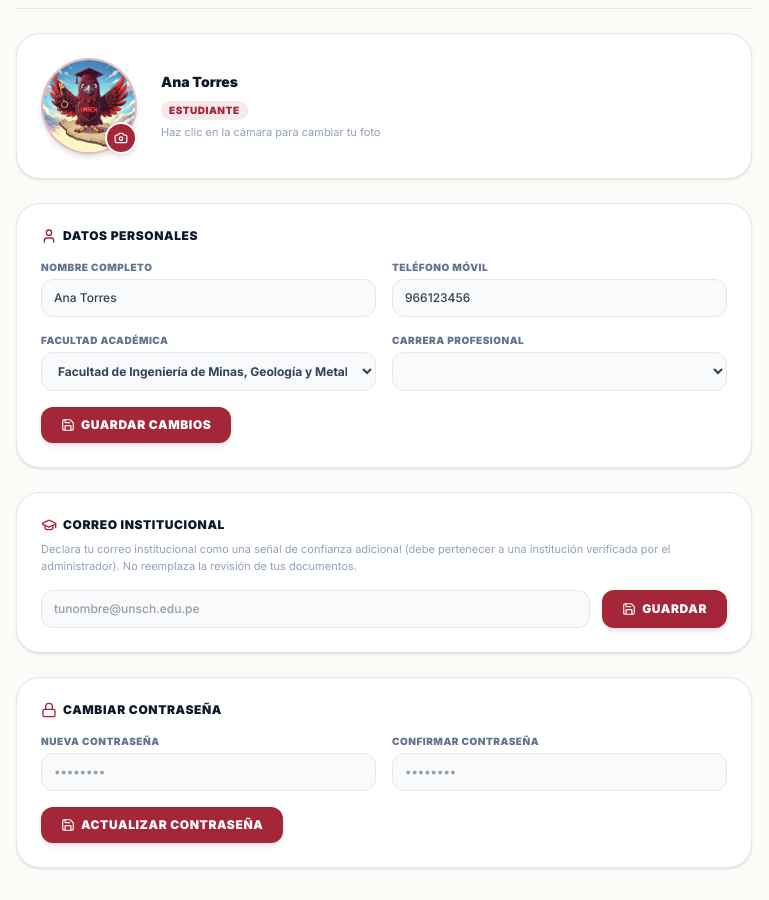
Test case: AccountSettingsPage › valida que la nueva contraseña tenga al menos 6 caracteres
The width and height of the screenshot is (769, 900).
(page scrolled)
Type "123" into the password field with placeholder "••••••••" below "Nueva Contraseña" at (208, 772), box [41,753,376,791]
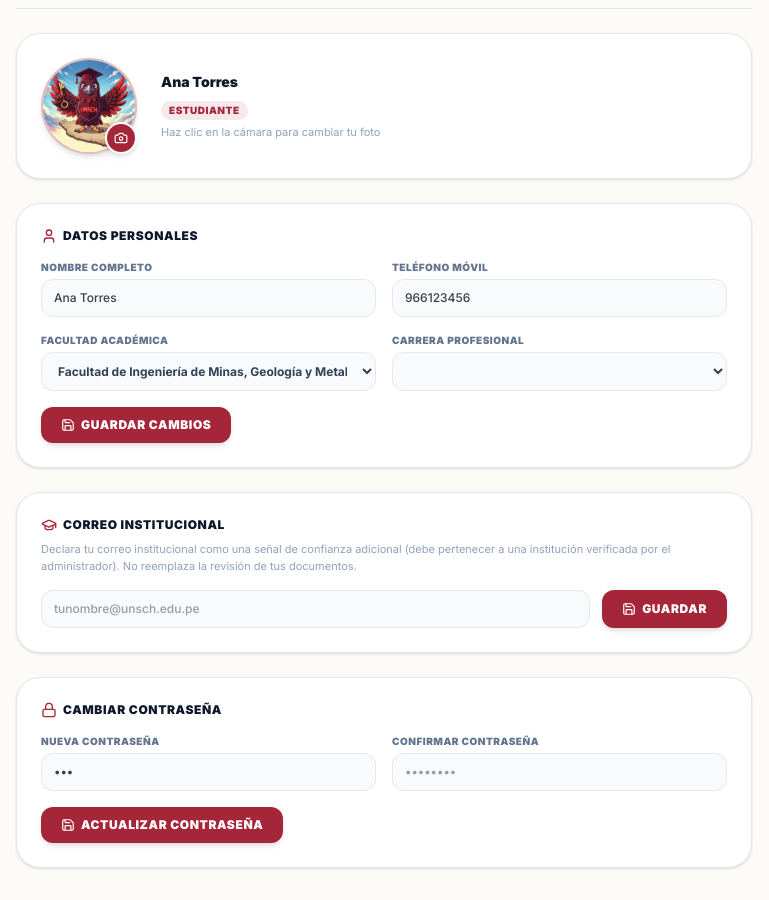
Type "123" into the password field with placeholder "••••••••" at (560, 772), box [392,753,727,791]
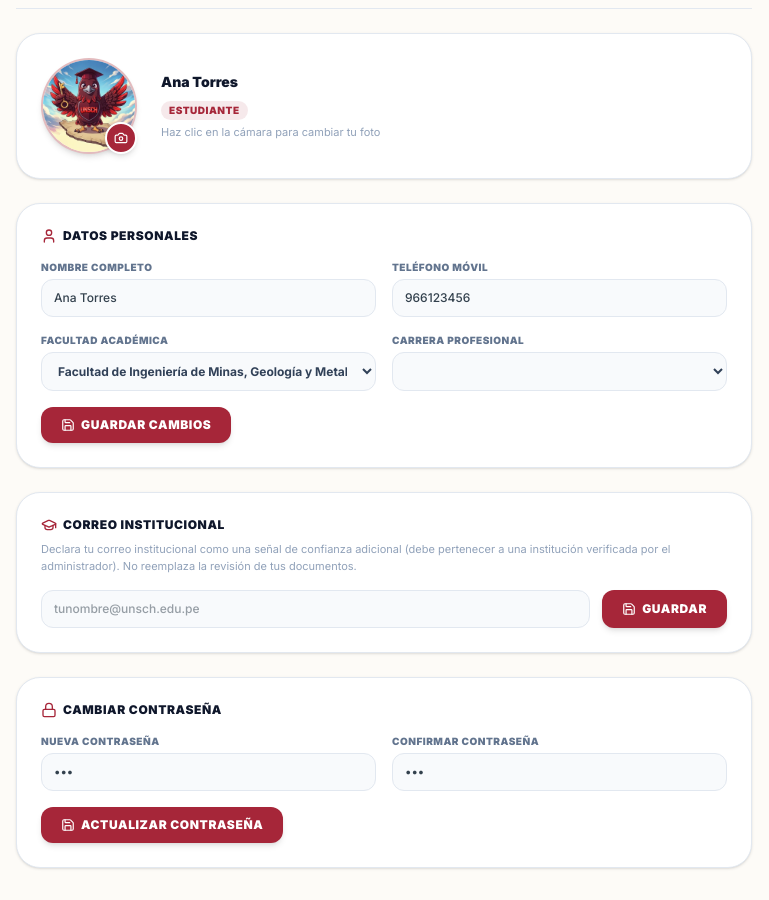
Click the button "Actualizar Contraseña" at (162, 825), box [41,807,283,843]
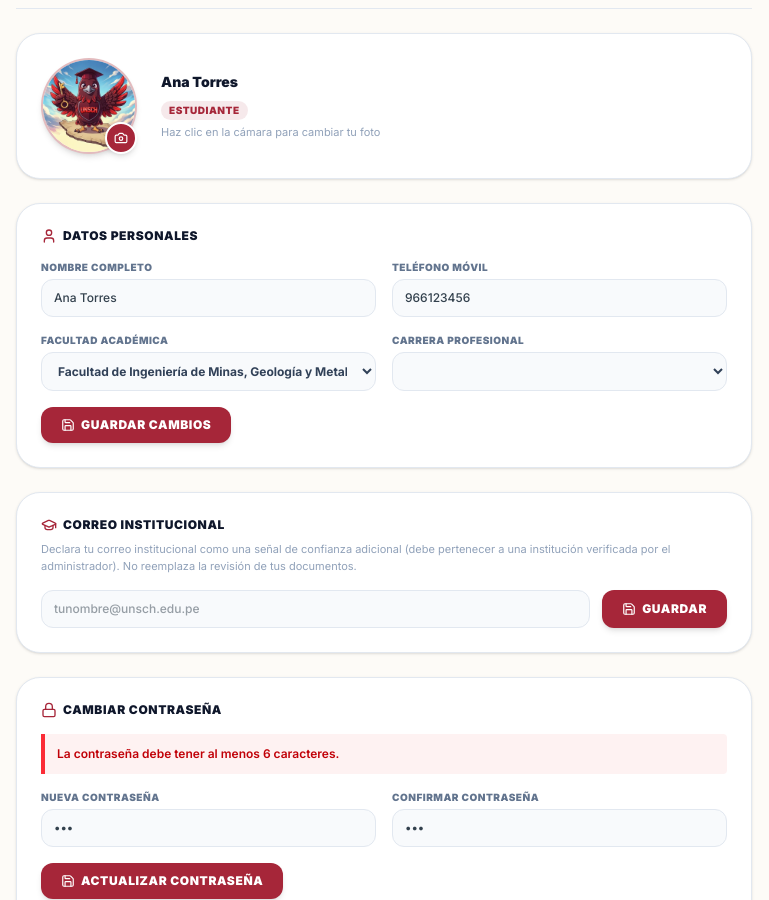
Check: the text "La contraseña debe tener al menos 6 caracteres." is shown, box [41,734,727,774]
